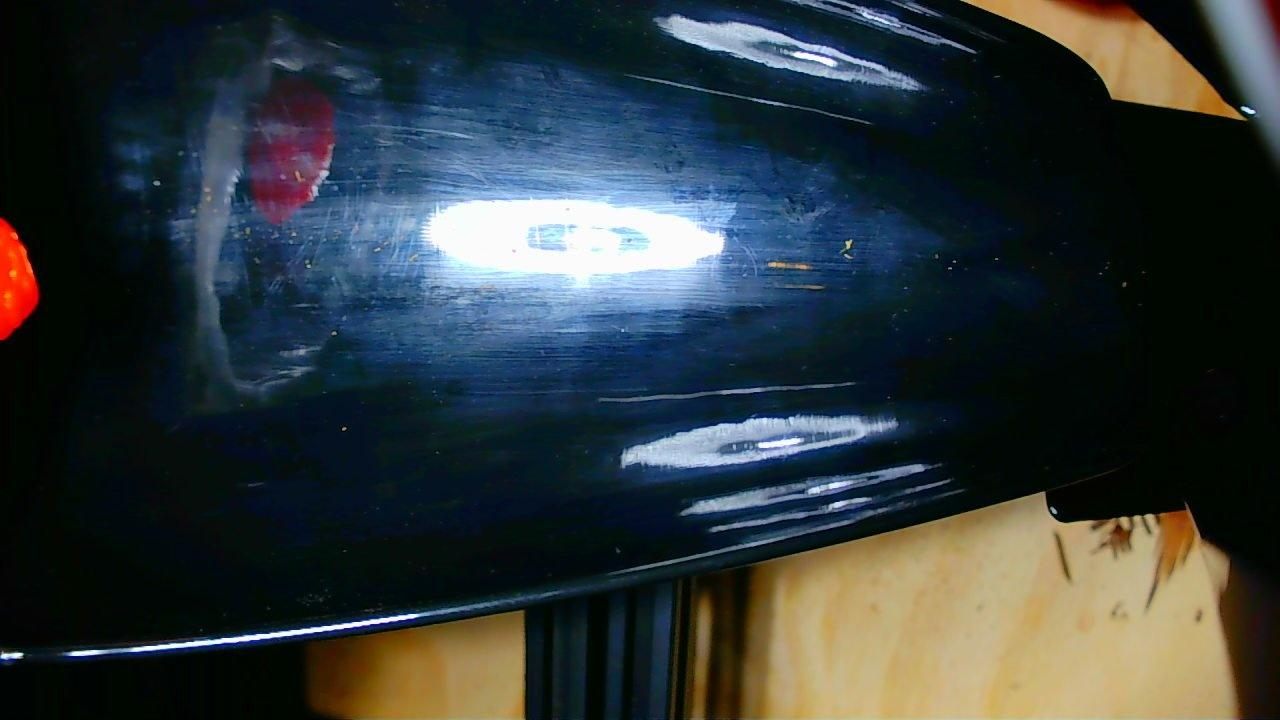berry: (0, 219, 38, 339)
